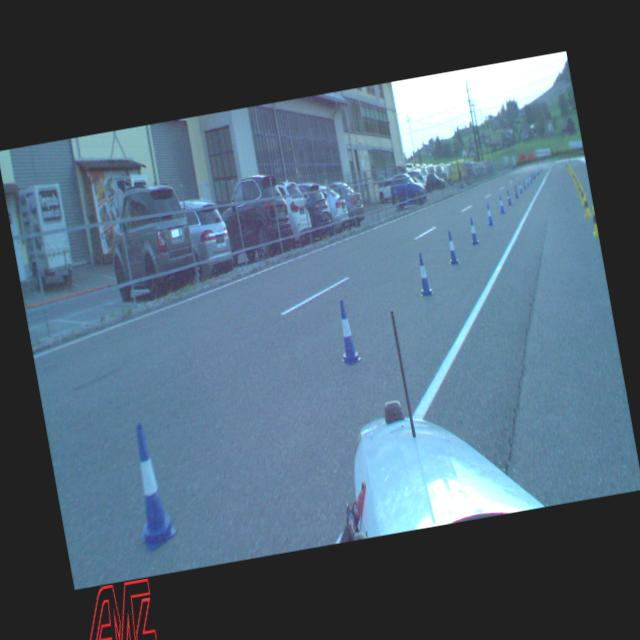blue_cone: (122, 419, 178, 551), (332, 298, 362, 366), (414, 252, 433, 296), (444, 230, 459, 265), (467, 218, 479, 245), (484, 203, 494, 225), (497, 194, 505, 213), (506, 191, 511, 204), (513, 186, 518, 197), (518, 180, 522, 193)
yellow_cone: (588, 203, 598, 235), (581, 194, 591, 218), (578, 188, 584, 205)
